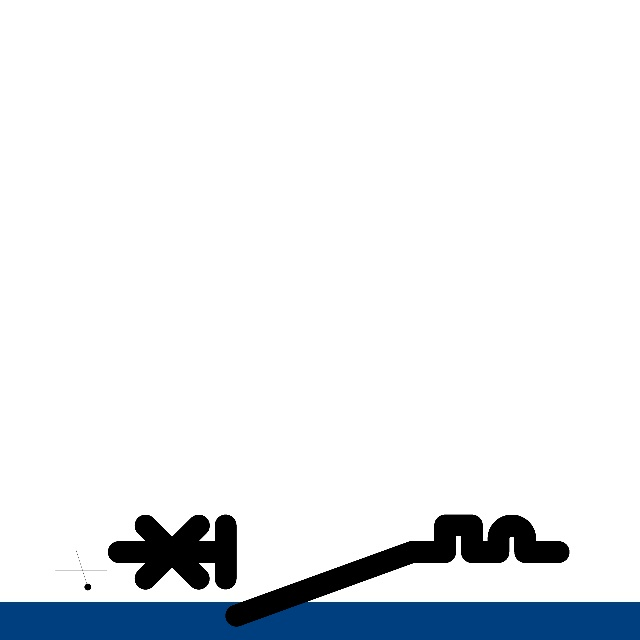interruptor_termomagnetico: (107, 514, 569, 627)
